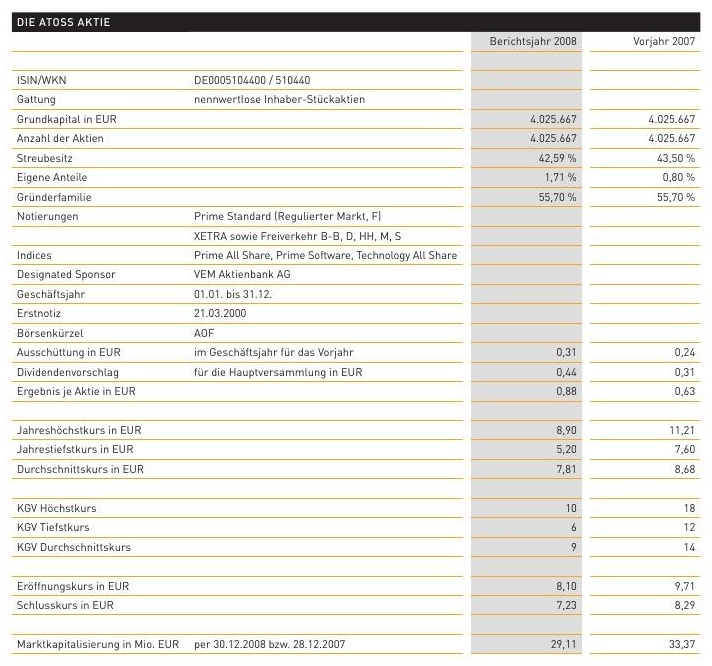table: (0, 0, 712, 666)
